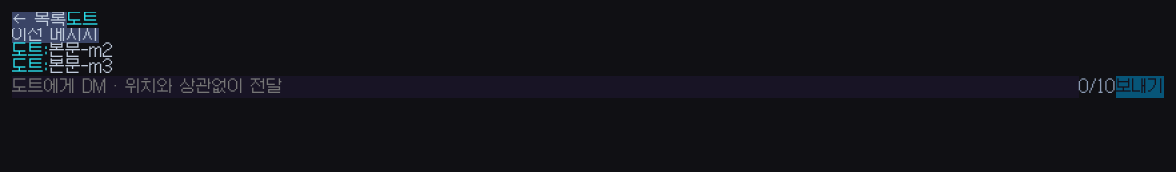
Scenario: DmThread › 이전 메시지 버튼으로 다음 페이지(cursor)를 받는다
Click the button "이전 메시지" at (55, 35), box [12,27,99,43]
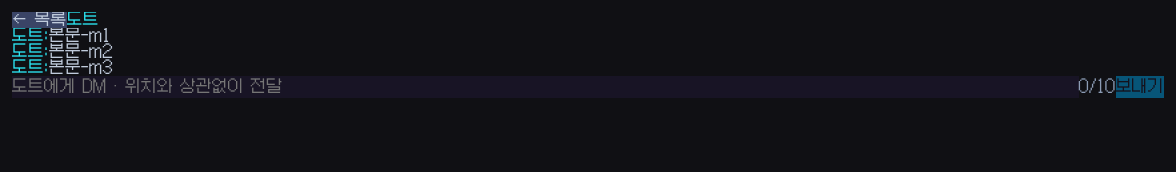
Expected: the text "본문-m1" is shown, [49,28,111,44]
Expected: the button "이전 메시지" is gone
